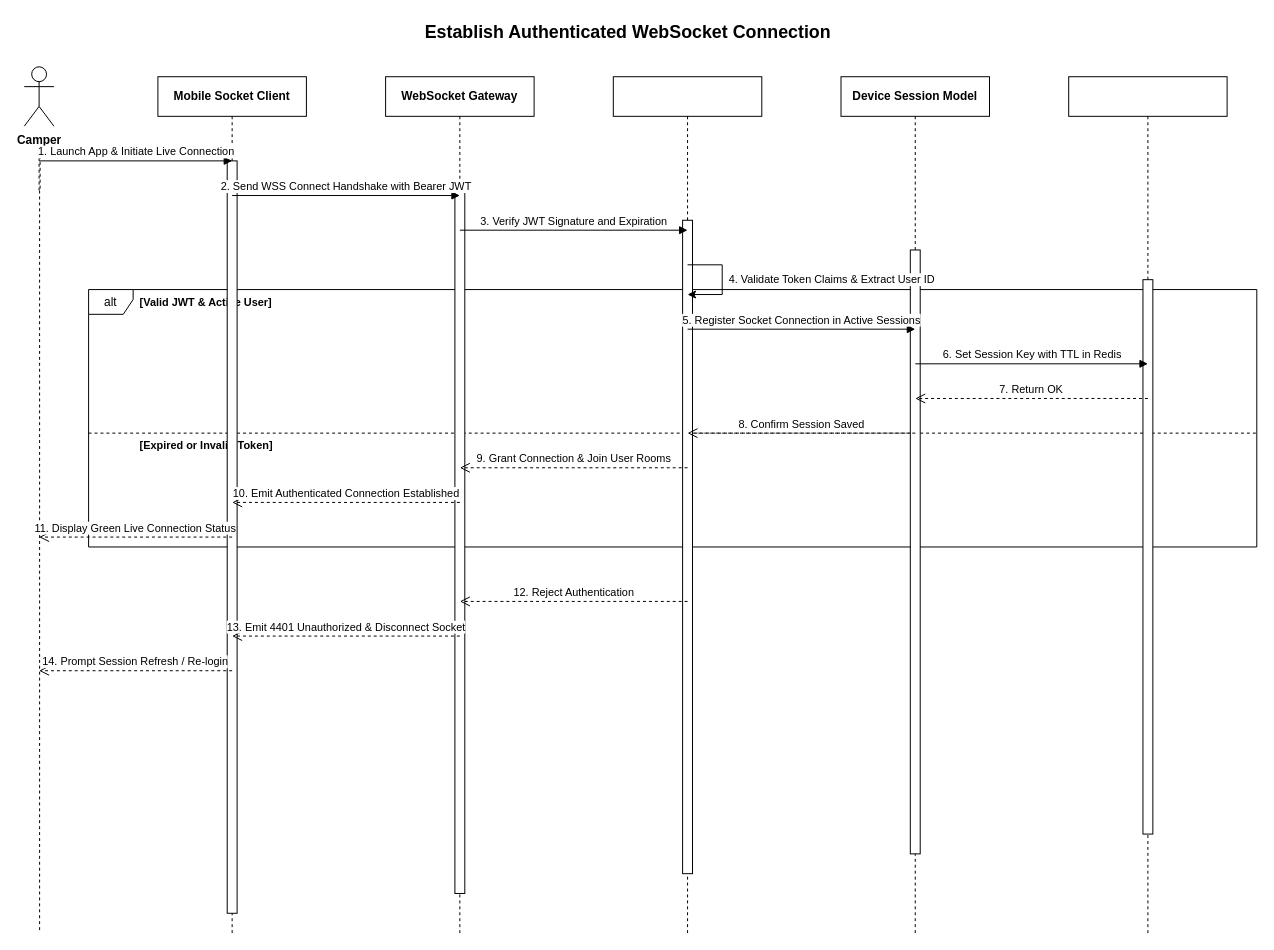
Image size: 1274x950. Some labels were removed from this diagram. Each missing label, with the box of its shape:
Auth Token Validator Service: (612, 76, 762, 933)
Redis Session Store: (1068, 76, 1227, 933)
